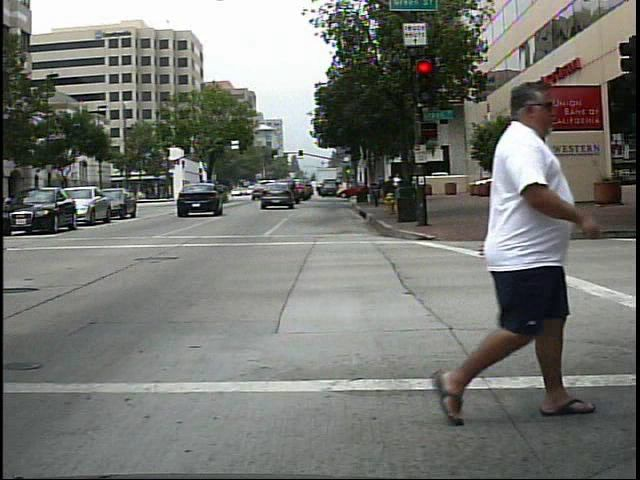person: (422, 72, 600, 431)
